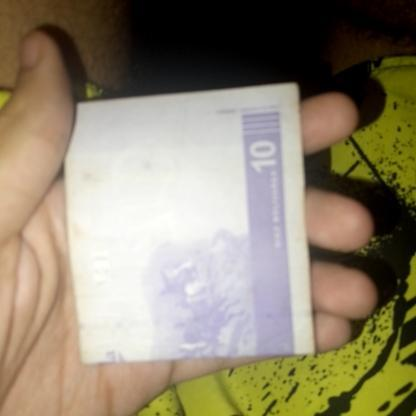ten-back-vef: (65, 82, 314, 362)
